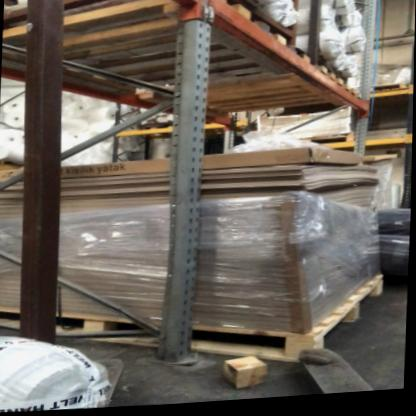vertical_damage: (155, 344, 213, 378)
